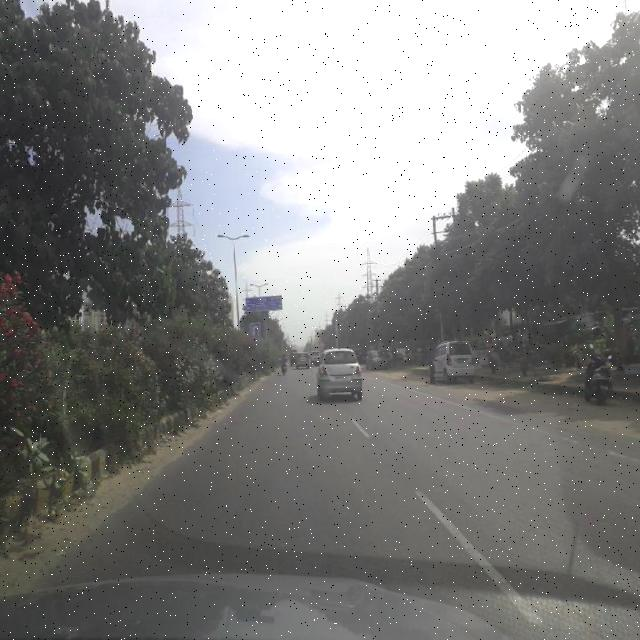D20: (79, 426, 309, 572)
D44: (442, 397, 640, 463)
